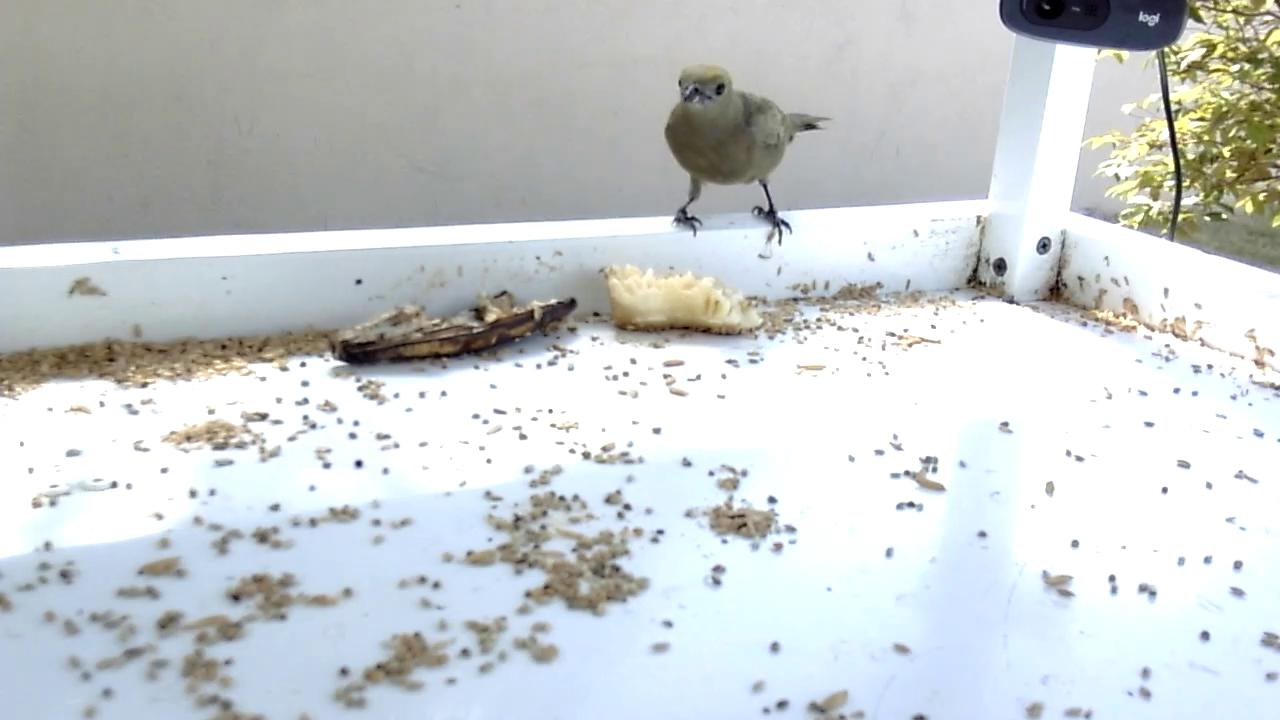sanhaco_do_coqueiro: (665, 62, 832, 248)
